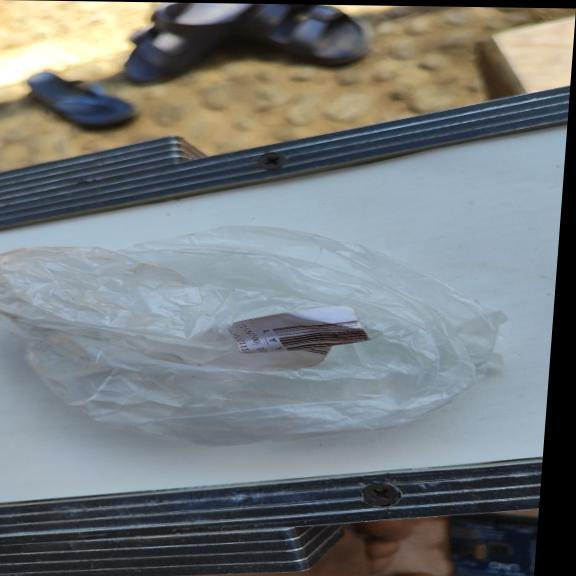Plastik: (0, 219, 522, 452)
